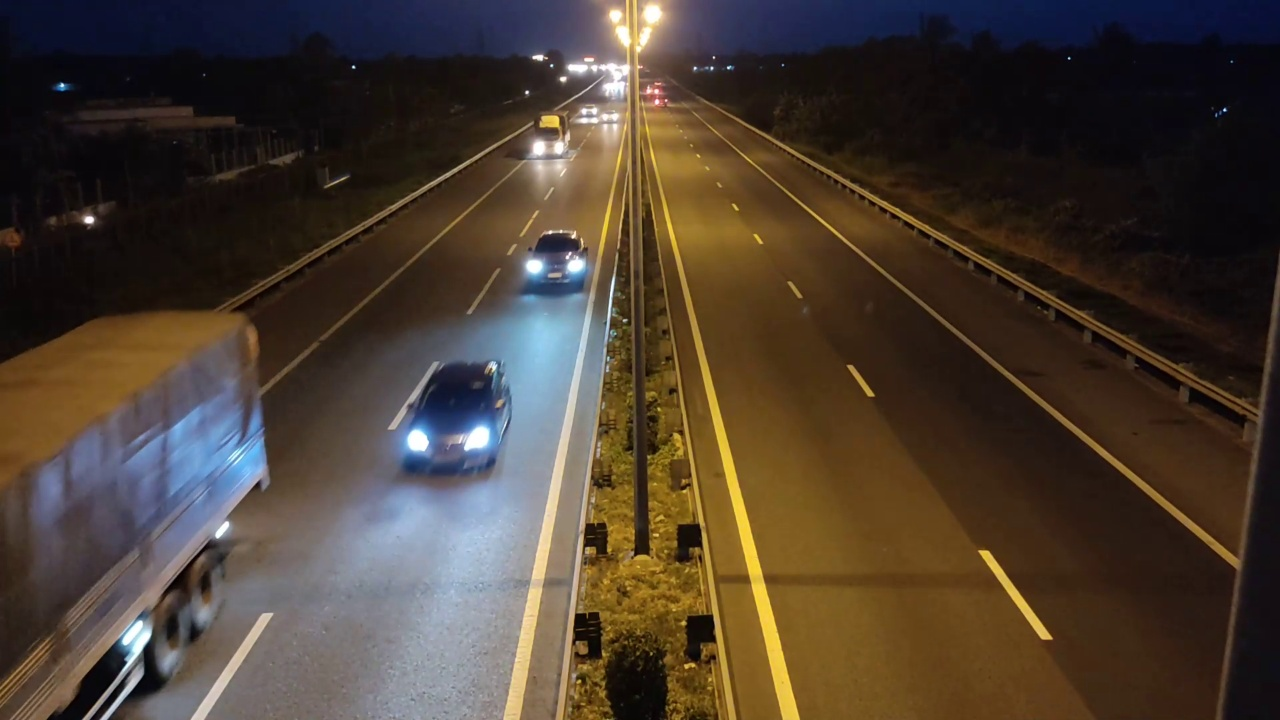car: (391, 359, 513, 477), (522, 229, 589, 293)
